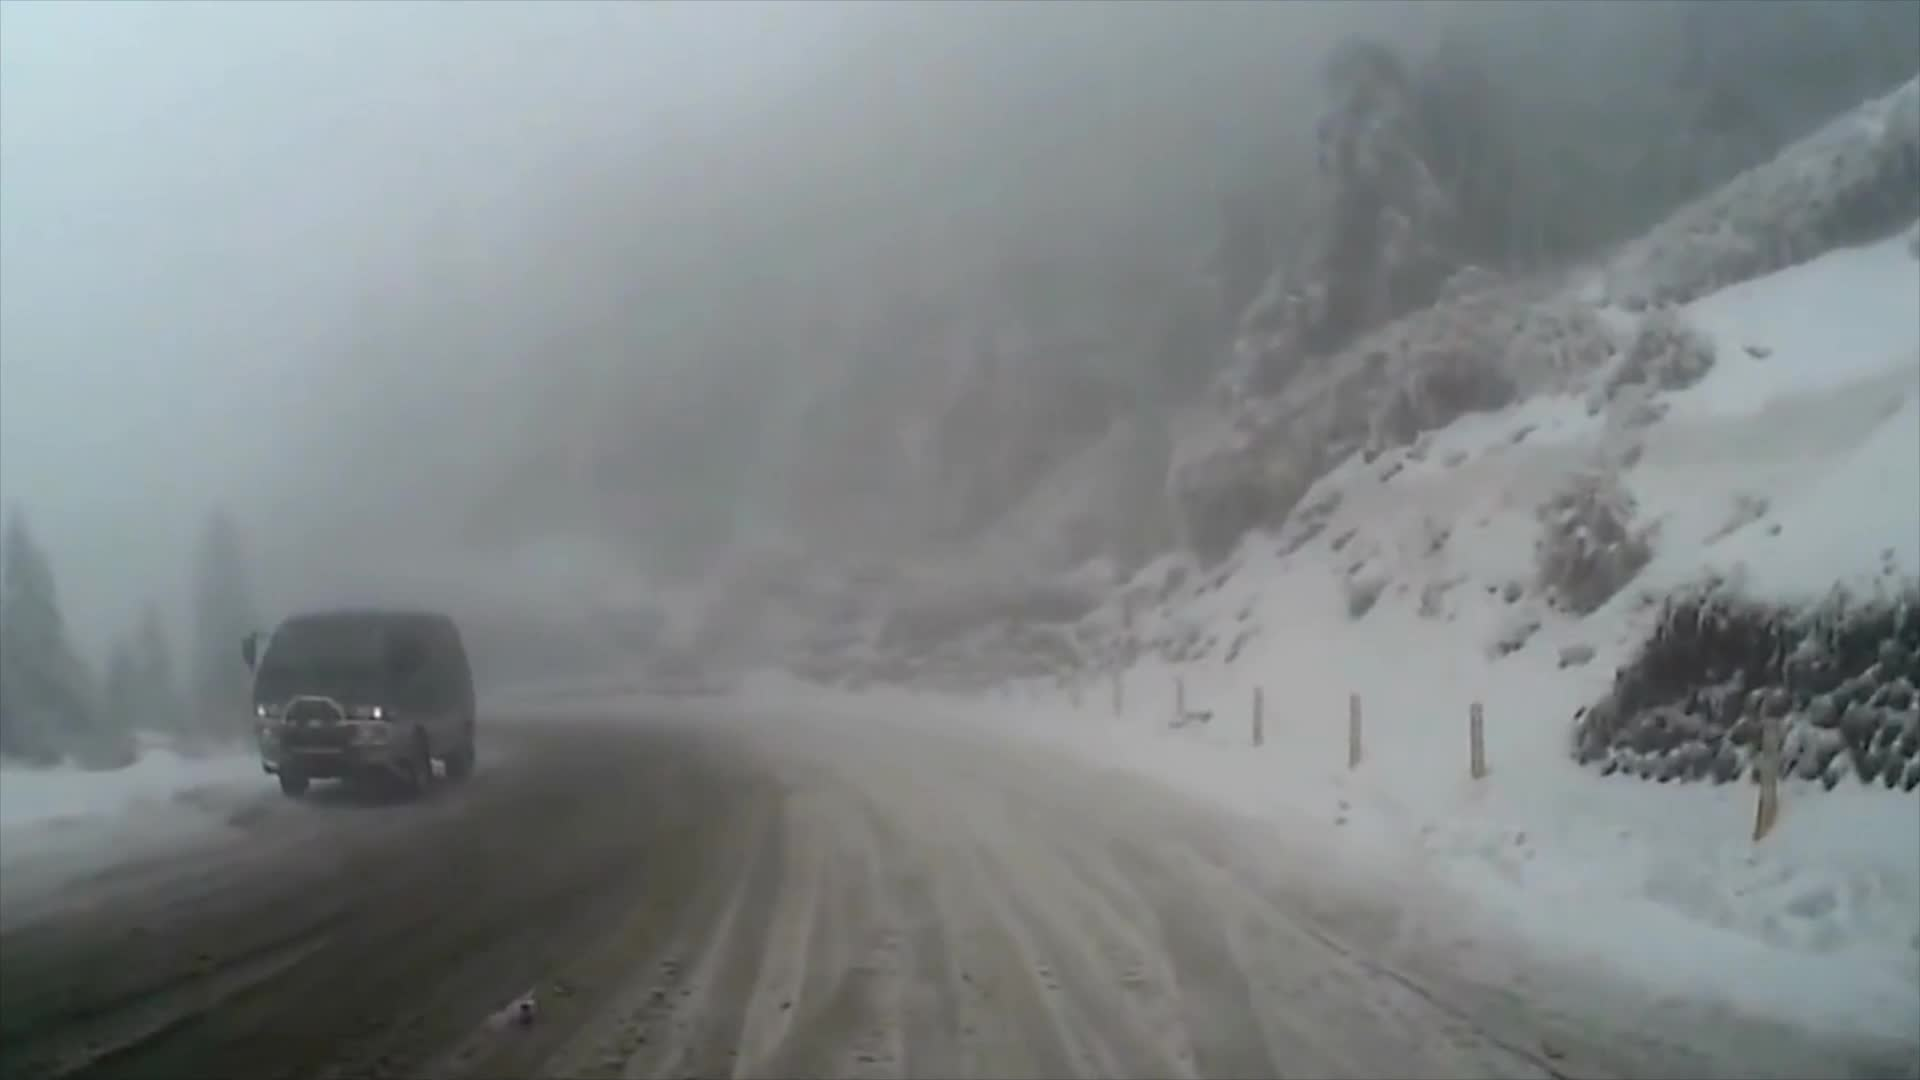vehicle: (240, 605, 477, 799)
